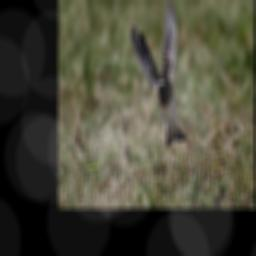Swallow: (130, 0, 188, 146)
